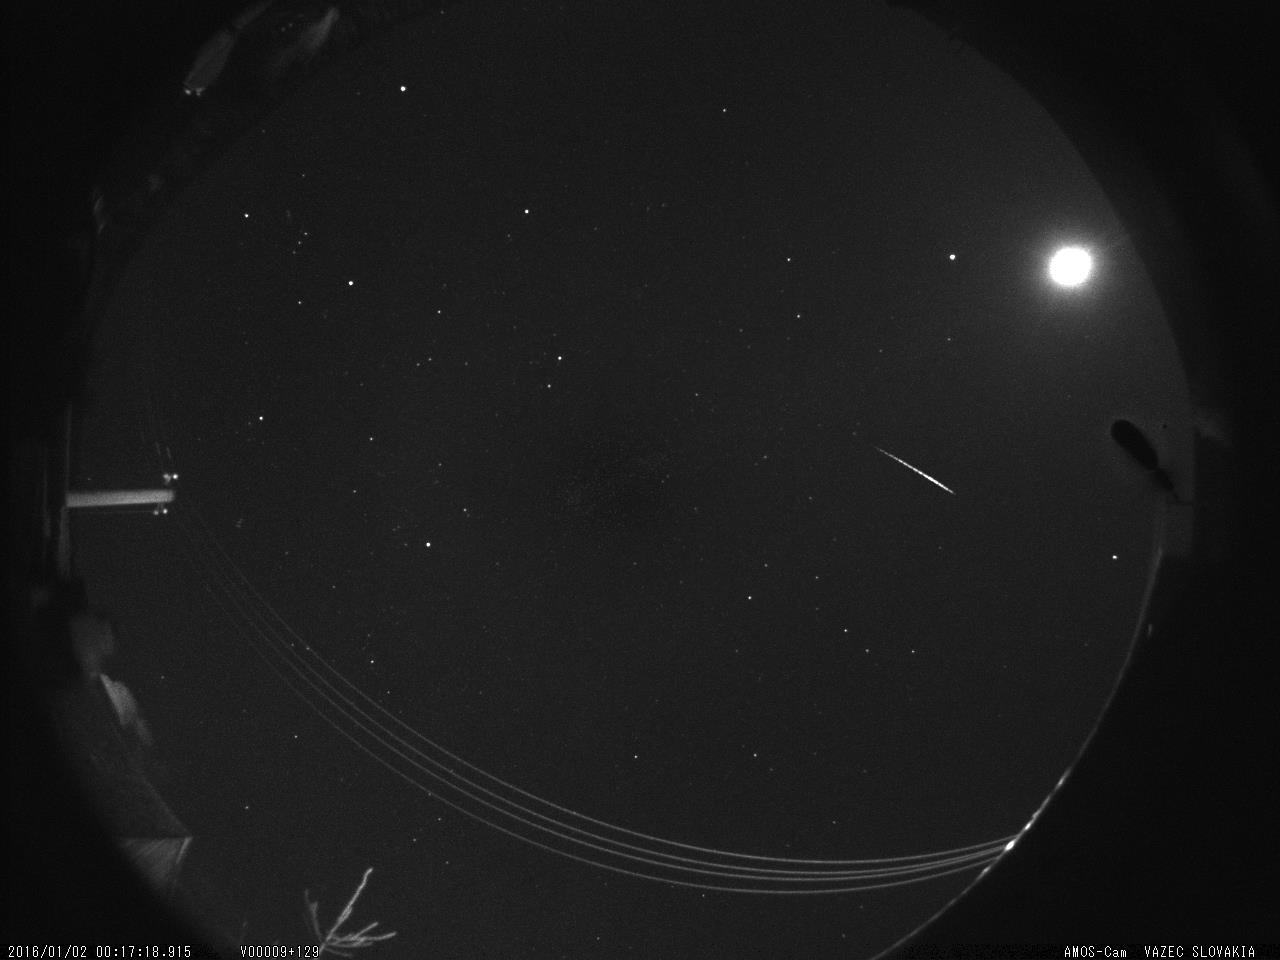meteor: (855, 423, 966, 508)
